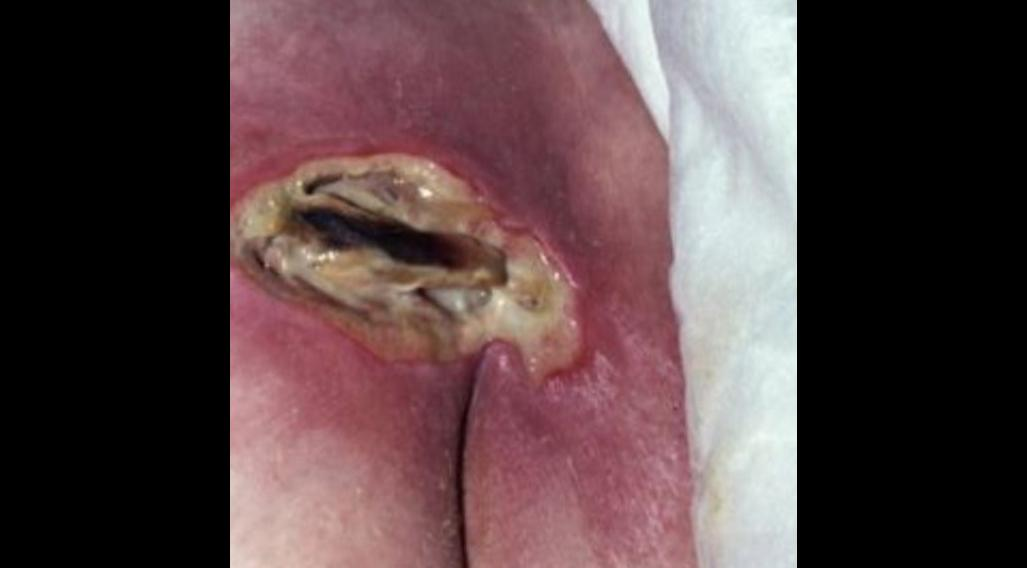Stage3: (242, 112, 657, 456)
